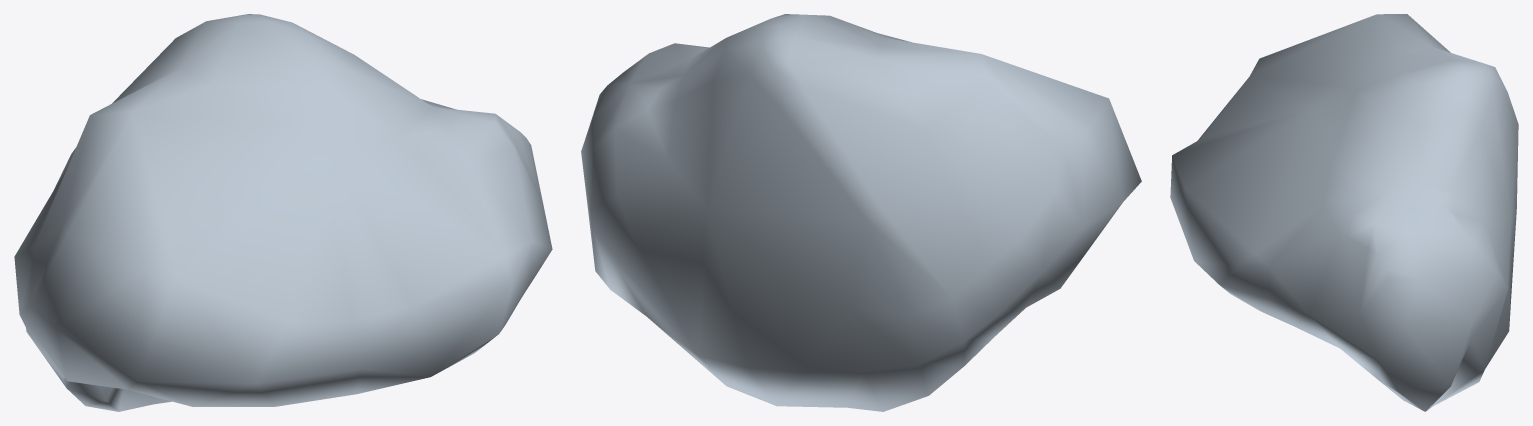
The model's file is articular-disc-of-temporomandibular-joint-r.glb.
The picture shows the model from 3 angles, left to right: view 1: azimuth 30°, elevation 25°; view 2: azimuth 150°, elevation 25°; view 3: azimuth 270°, elevation 25°; orthographic projection. The views are drawn at different scales.
Visible parts, largest first — view 1: Articular disc of temporomandibular joint.r; view 2: Articular disc of temporomandibular joint.r; view 3: Articular disc of temporomandibular joint.r.
Boxes of the visible parts, x1,y1,x2,y2 form: Articular disc of temporomandibular joint.r: (14,14,552,411); Articular disc of temporomandibular joint.r: (581,14,1141,411); Articular disc of temporomandibular joint.r: (1170,14,1518,411).
Bounding box in the file's own units: 0.0193 × 0.0135 × 0.0139.
